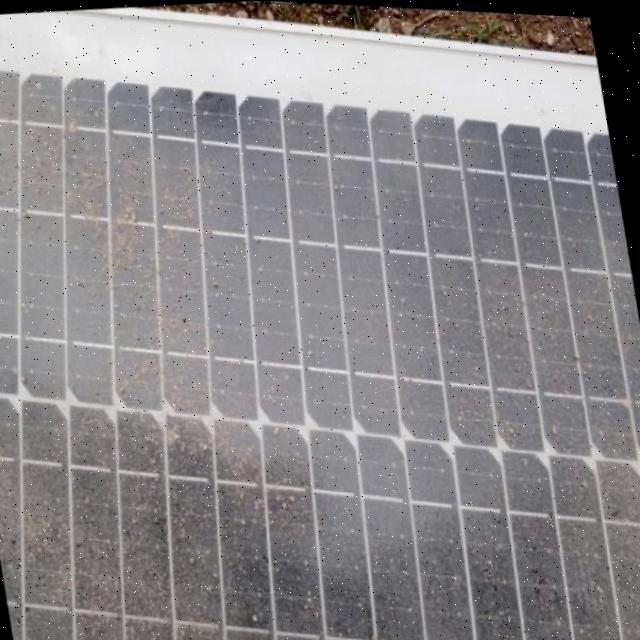Surface Contaminant: (0, 88, 640, 640)
